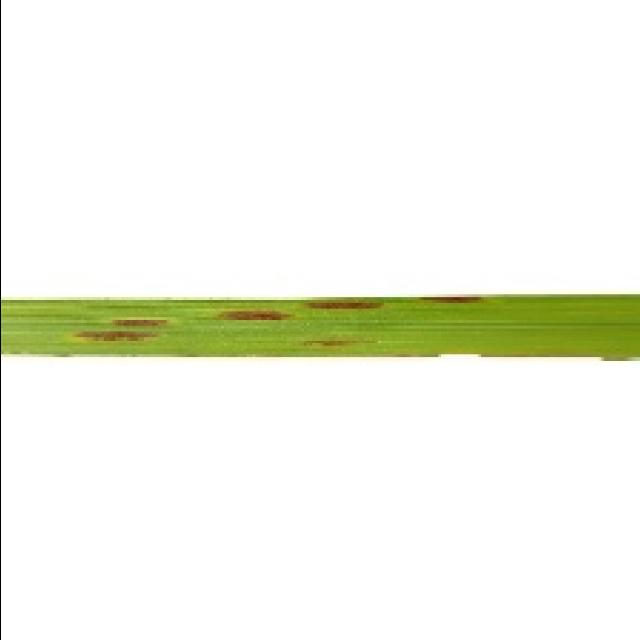Unhealthy: (73, 331, 160, 341), (301, 336, 376, 347), (303, 301, 383, 310), (214, 311, 294, 320), (418, 296, 487, 302), (109, 319, 167, 326)
